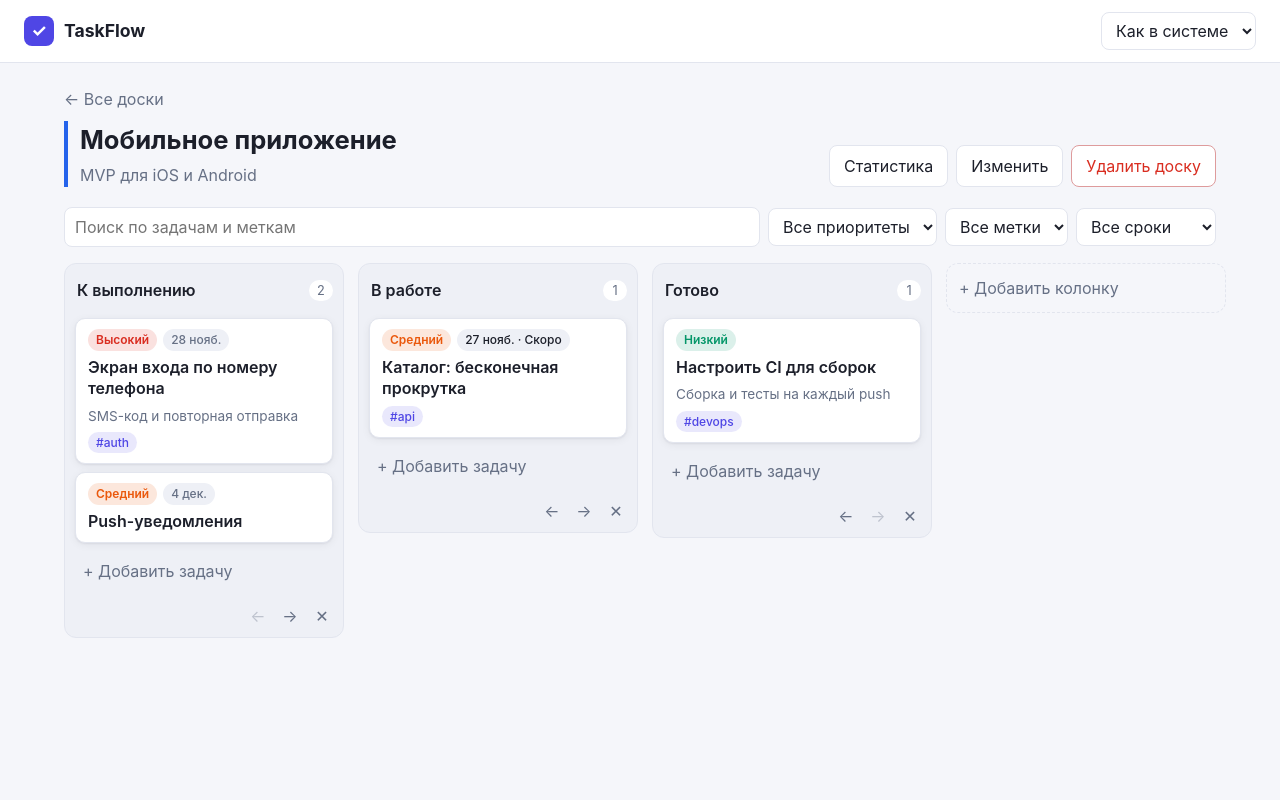
Scenario: работа с досками и колонками › добавляет и переименовывает колонку
This screenshot has width=1280, height=800.
Step 1. Click the button "+ Добавить колонку" → x=1086, y=288, box [946, 263, 1226, 313]
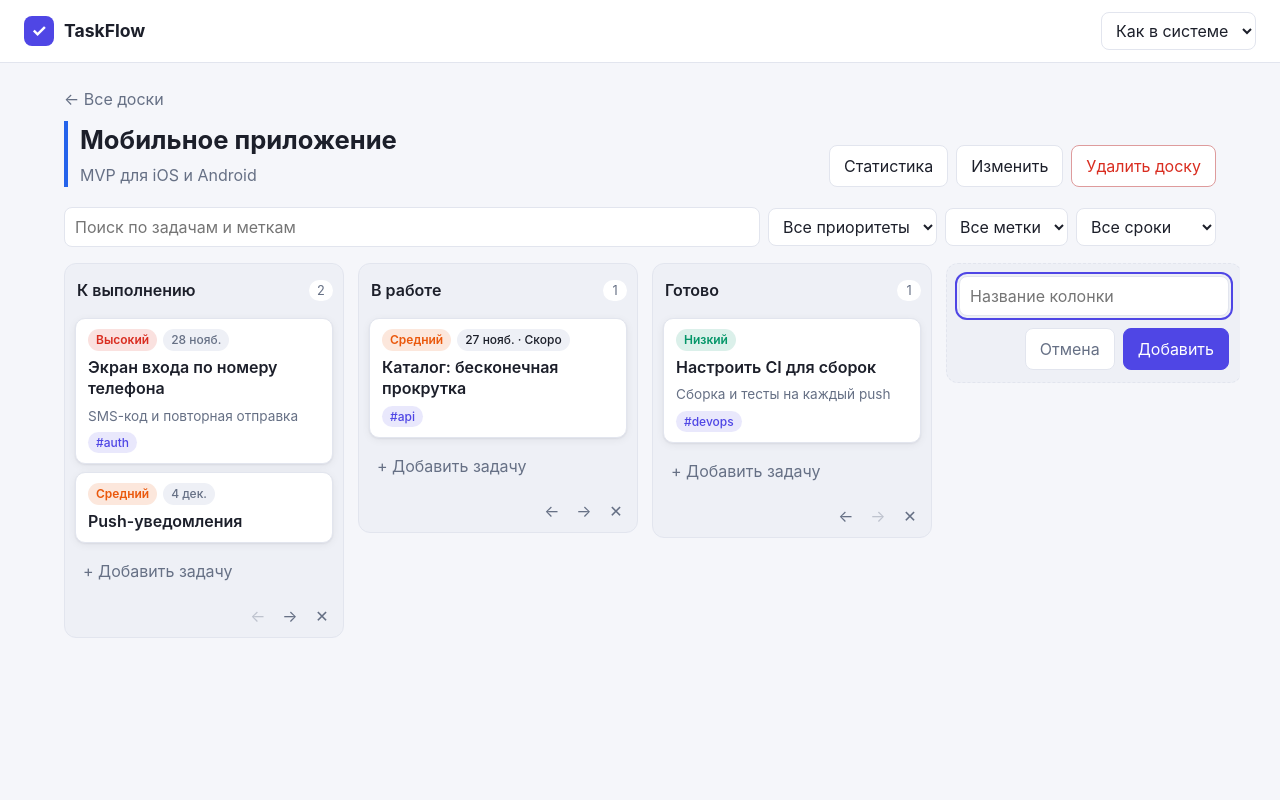
Step 2. Type "готово" into the field named "Название новой колонки" → x=1094, y=296, box [959, 276, 1229, 316]
Step 3. Click the button "Добавить" → x=1176, y=349, box [1123, 328, 1229, 370]
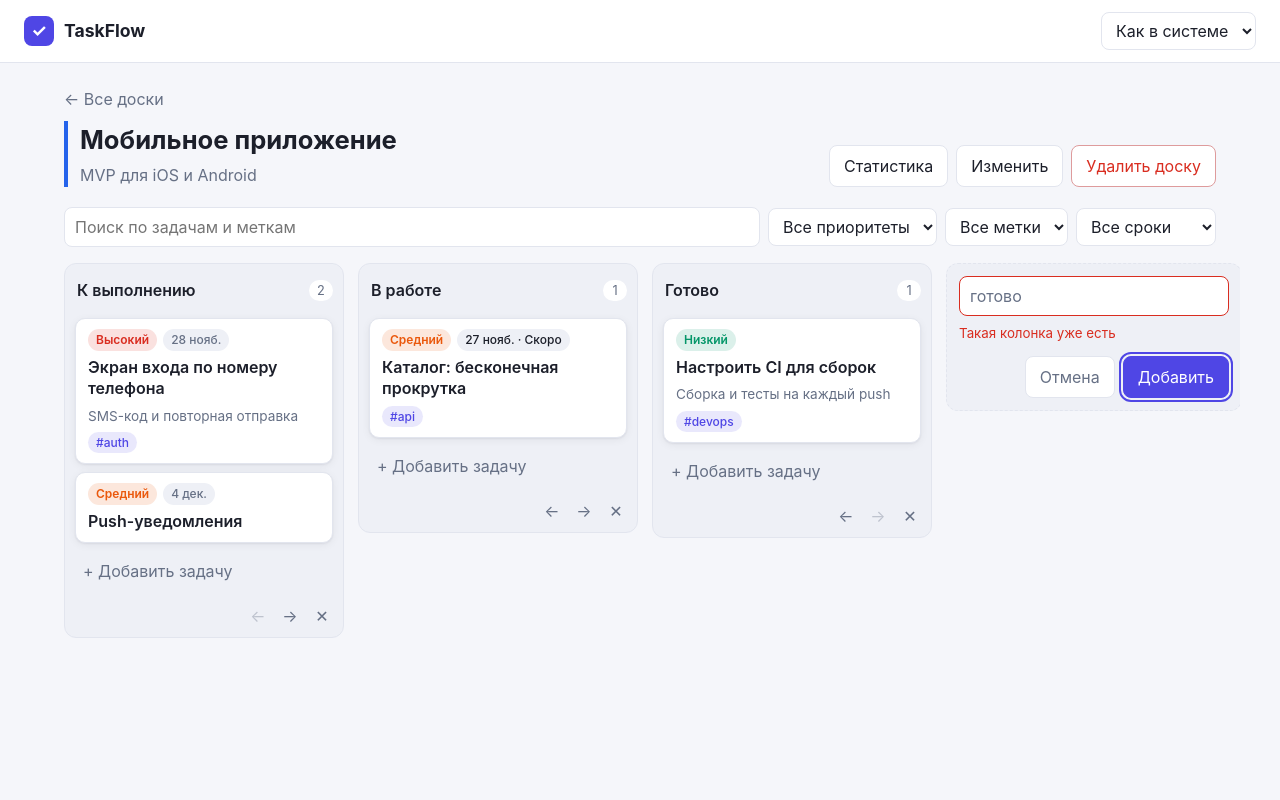
Expected: the text "Такая колонка уже есть" is shown, [959, 325, 1116, 341]
Step 4. Replace the text in the field named "Название новой колонки" with "Релиз" → x=1094, y=296, box [959, 276, 1229, 316]
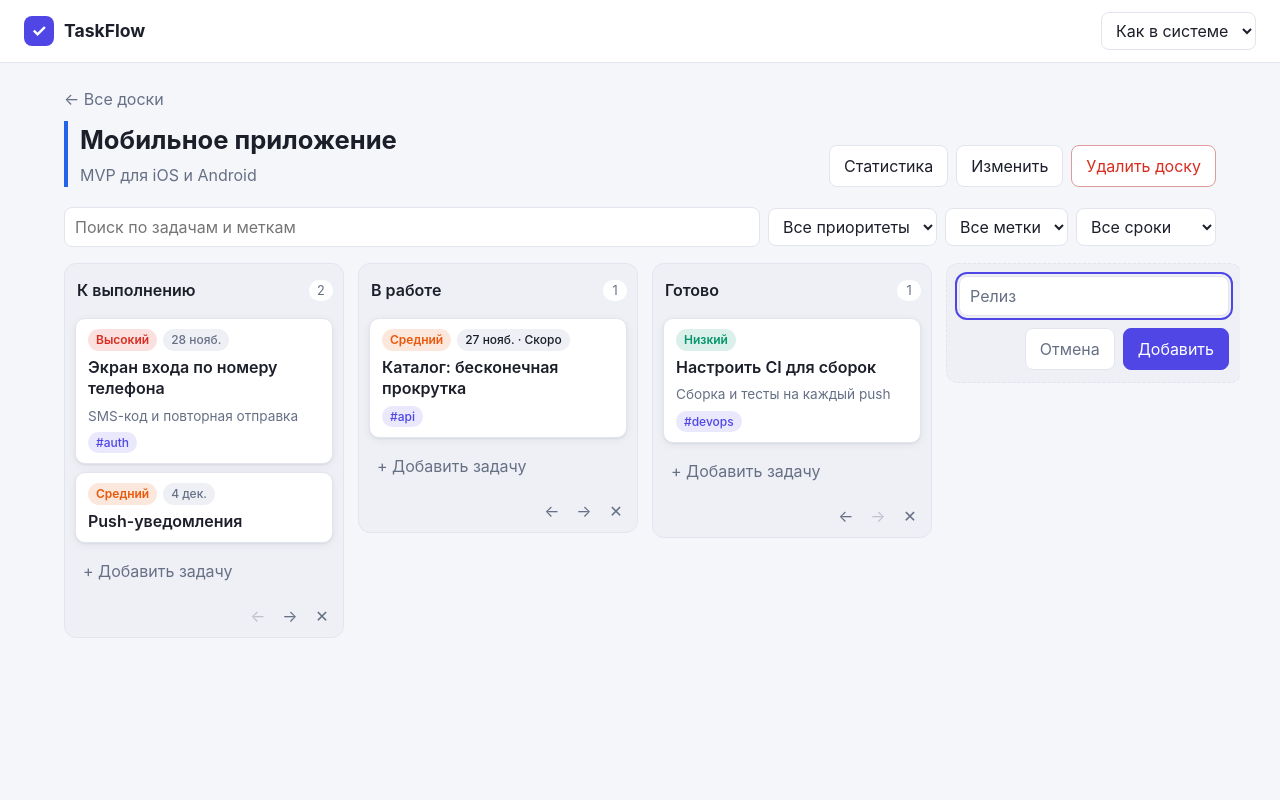
Step 5. Click the button "Добавить" → x=1176, y=349, box [1123, 328, 1229, 370]
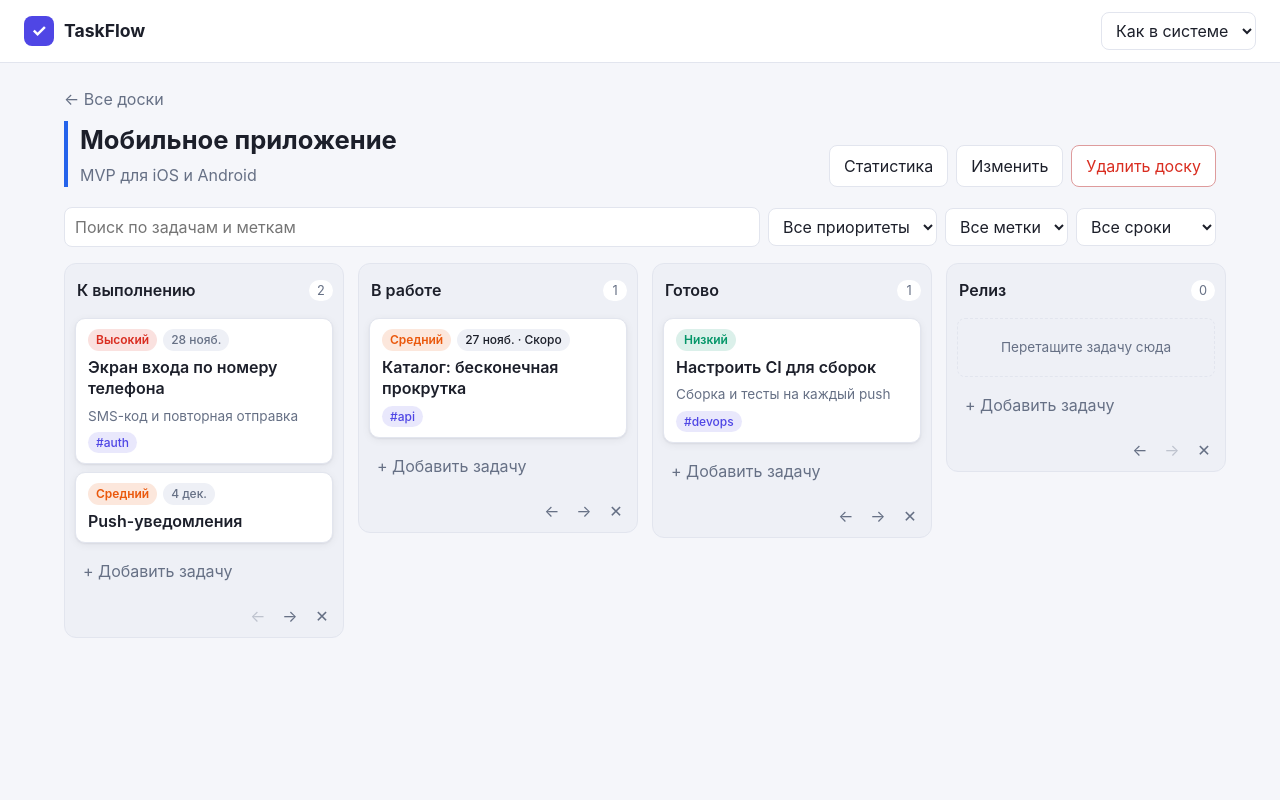
Expected: the element "Релиз" is shown, [946, 263, 1226, 472]
Step 6. Click the button "В работе" → x=480, y=290, box [365, 274, 595, 306]
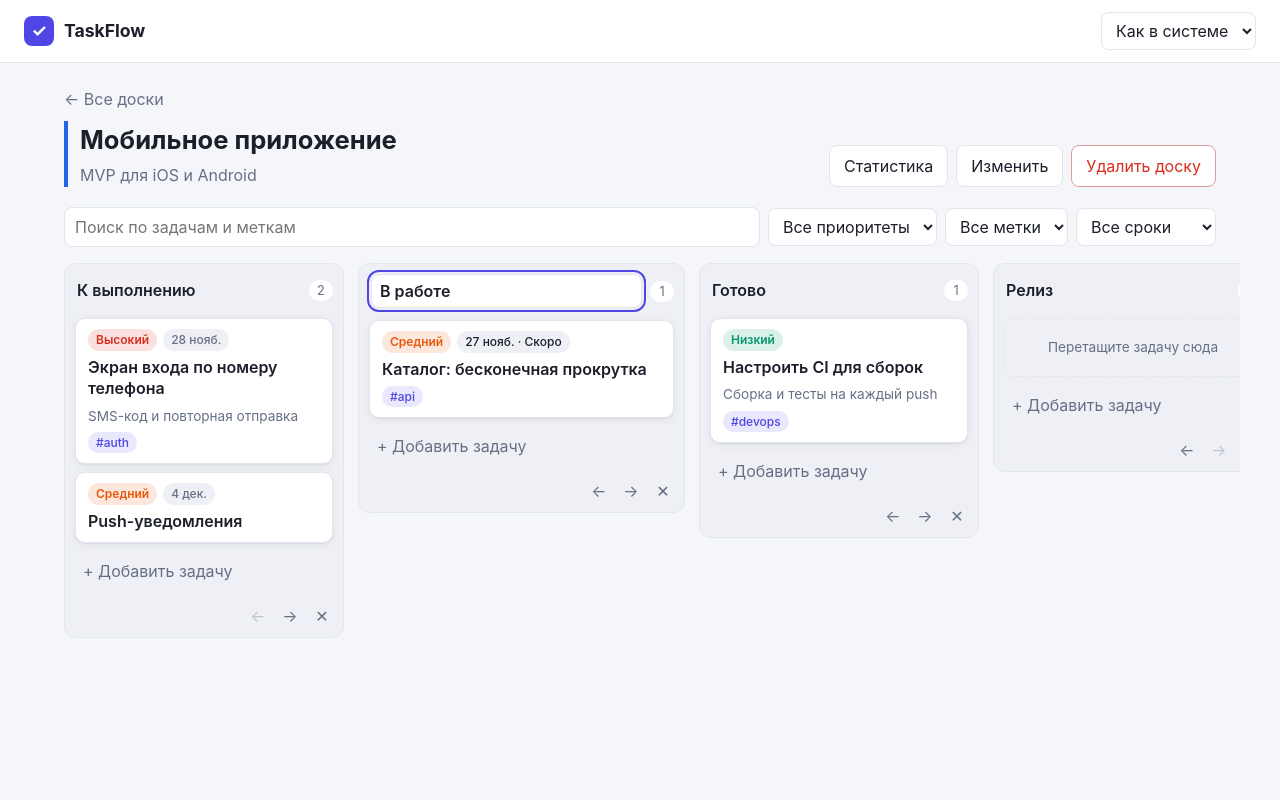
Step 7. Replace the text in the field named "Название колонки" with "В разработке" → x=506, y=291, box [371, 274, 642, 308]
Then press Enter
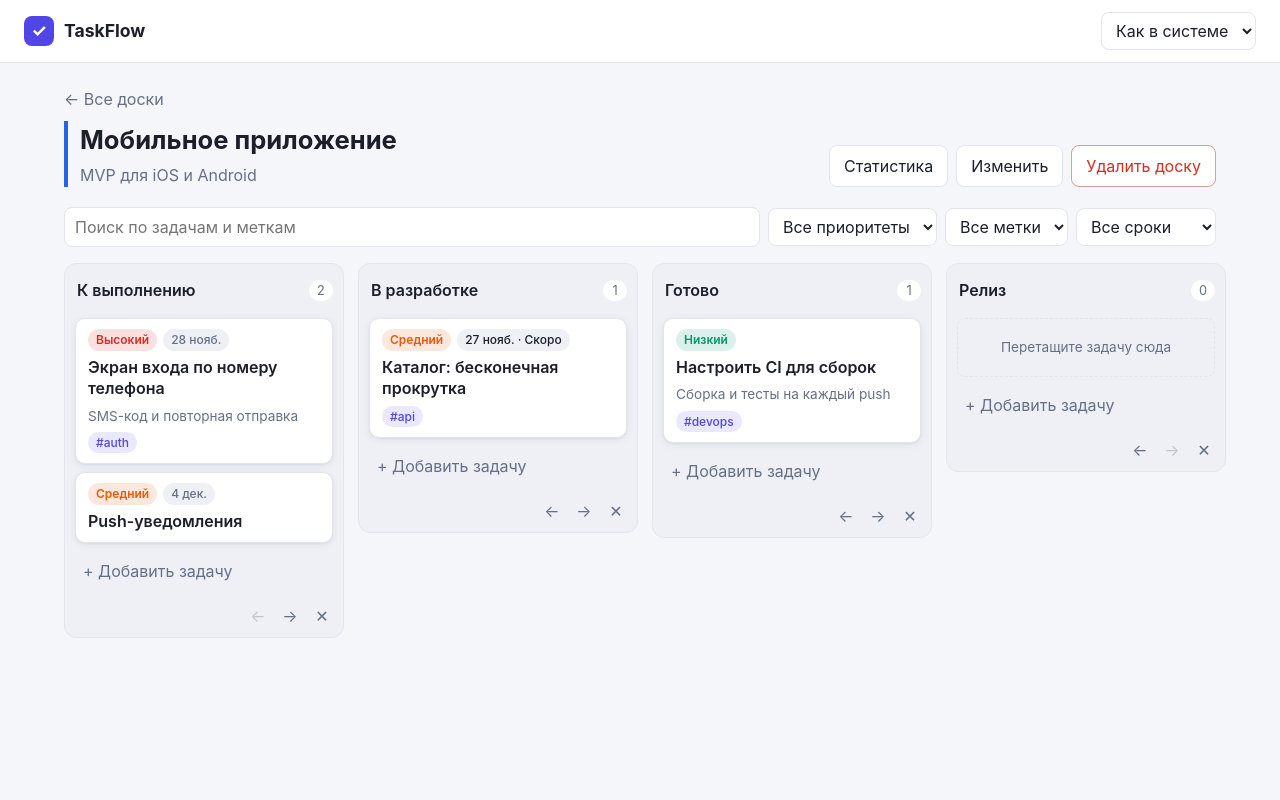
Expected: the element "В разработке" is shown, [358, 263, 638, 533]
